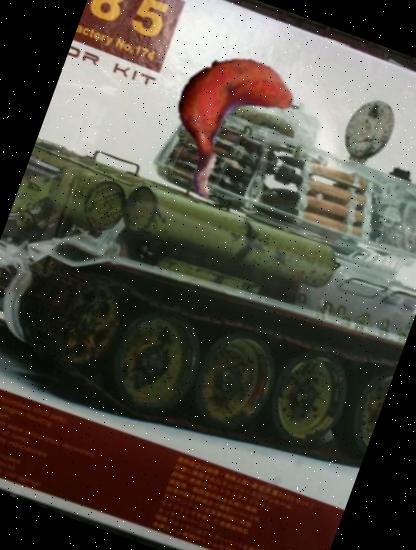Banana: (138, 30, 316, 208)
